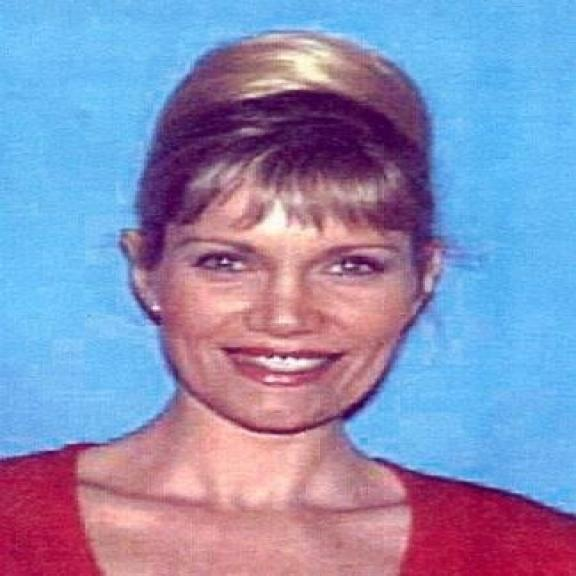face: (124, 155, 448, 444)
